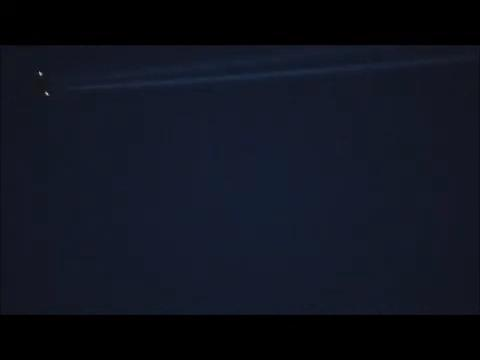Plane: (30, 62, 326, 95)
